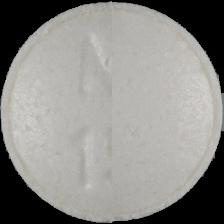76237-149: (0, 0, 224, 224)
